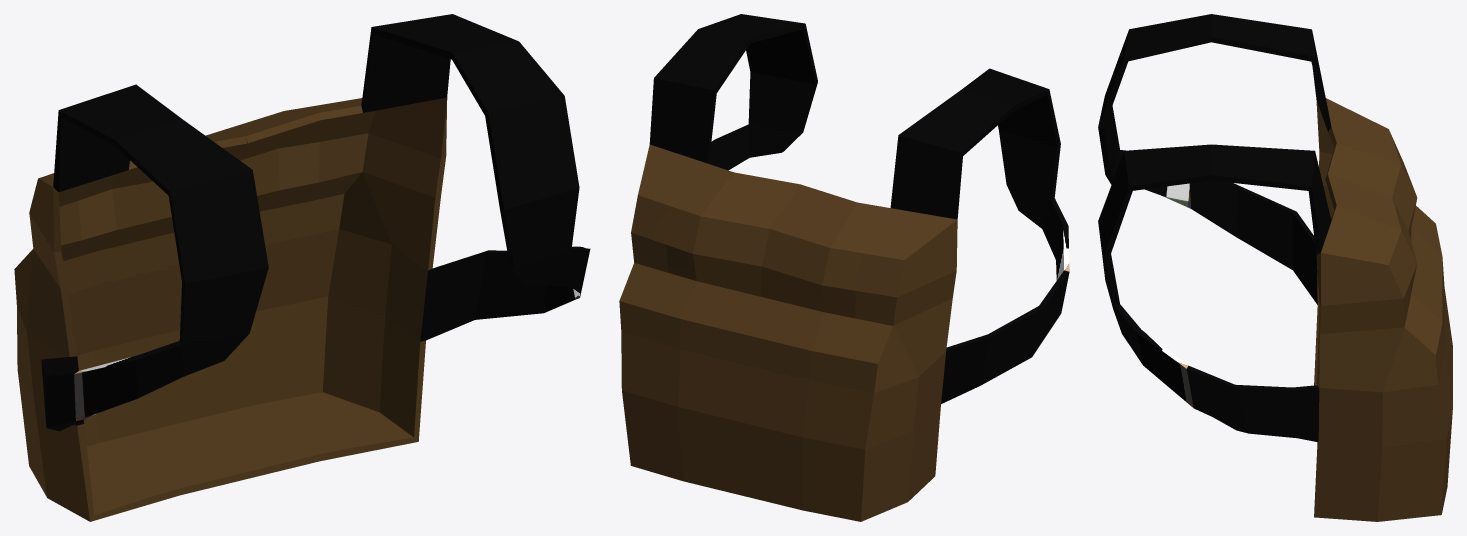
File: Backpack02.fbx
3 renders of one model, left to right at view 1: azimuth 30°, elevation 25°; view 2: azimuth 150°, elevation 25°; view 3: azimuth 270°, elevation 25°, orthographic. The views are drawn at different scales.
Parts seen in each view (by area): view 1: Backpack.001; view 2: Backpack.001; view 3: Backpack.001.
Boxes of the visible parts, <box> form: Backpack.001: <box>14,14,590,521</box>; Backpack.001: <box>619,14,1069,521</box>; Backpack.001: <box>1098,14,1452,521</box>.
Size of the model in its own units: 0.4896 by 0.4053 by 0.3562.
